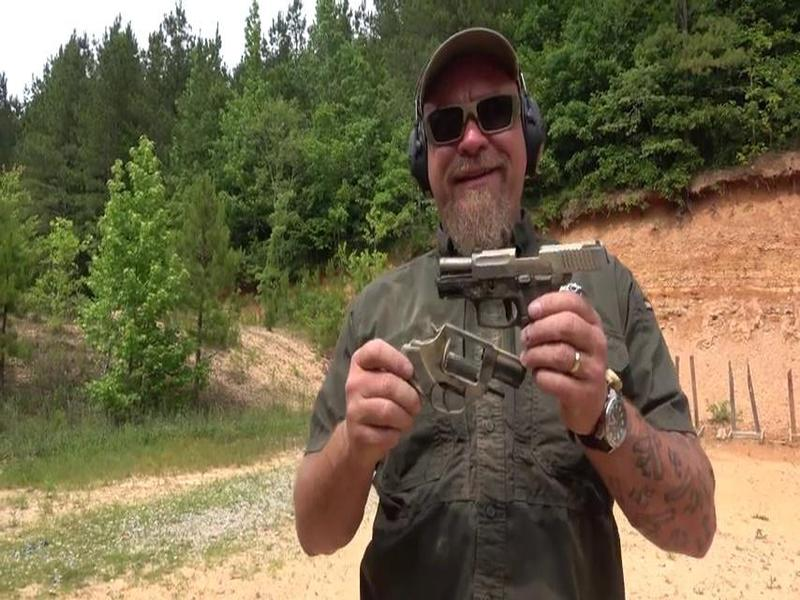Pistola: (431, 231, 617, 348)
Revolver: (357, 313, 530, 433)
